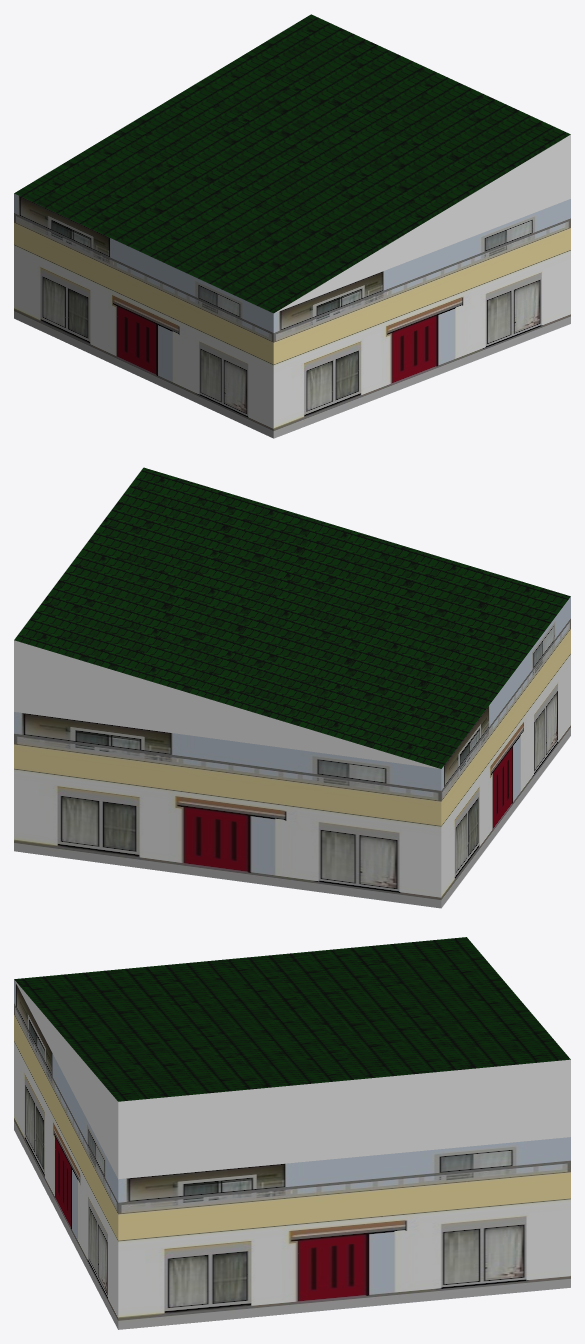
The picture shows the model from 3 angles, top to bottom: view 1: azimuth 30°, elevation 25°; view 2: azimuth 150°, elevation 25°; view 3: azimuth 270°, elevation 25°; orthographic projection. The views are drawn at different scales.
Parts seen in each view (by area): view 1: CityEngineMaterial_13_m, CityEngineMaterial_15_m, CityEngineMaterial_3_m; view 2: CityEngineMaterial_13_m, CityEngineMaterial_15_m, CityEngineMaterial_3_m; view 3: CityEngineMaterial_15_m, CityEngineMaterial_13_m, CityEngineMaterial_3_m.
Part boxes in pixels (x1=…): CityEngineMaterial_13_m: x1=14, y1=14, x2=570, y2=313; CityEngineMaterial_15_m: x1=14, y1=193, x2=570, y2=438; CityEngineMaterial_3_m: x1=275, y1=134, x2=570, y2=312; CityEngineMaterial_13_m: x1=14, y1=467, x2=570, y2=768; CityEngineMaterial_15_m: x1=14, y1=597, x2=570, y2=908; CityEngineMaterial_3_m: x1=14, y1=640, x2=439, y2=768; CityEngineMaterial_15_m: x1=14, y1=980, x2=570, y2=1329; CityEngineMaterial_13_m: x1=14, y1=937, x2=570, y2=1101; CityEngineMaterial_3_m: x1=14, y1=979, x2=570, y2=1179.
Bounding box in the file's own units: 27.23 × 11.96 × 26.47.
